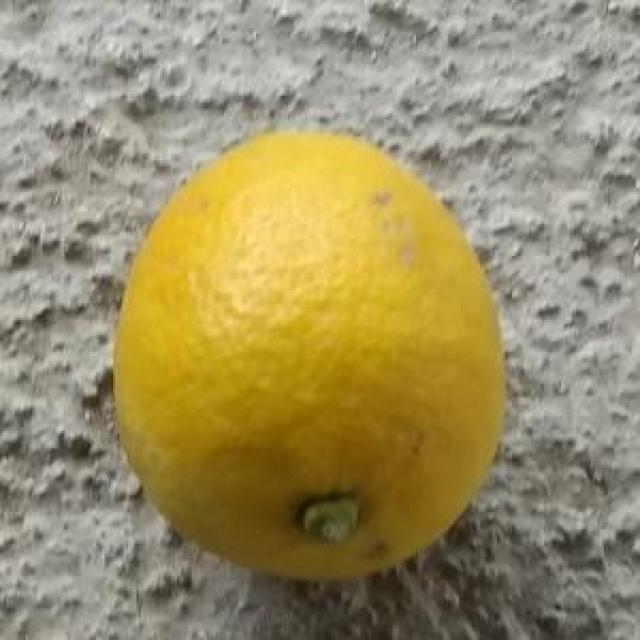lemon: (113, 126, 510, 586)
